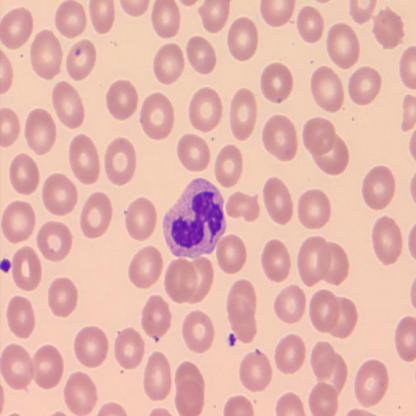Segmented neutrophil: (162, 175, 230, 261)
